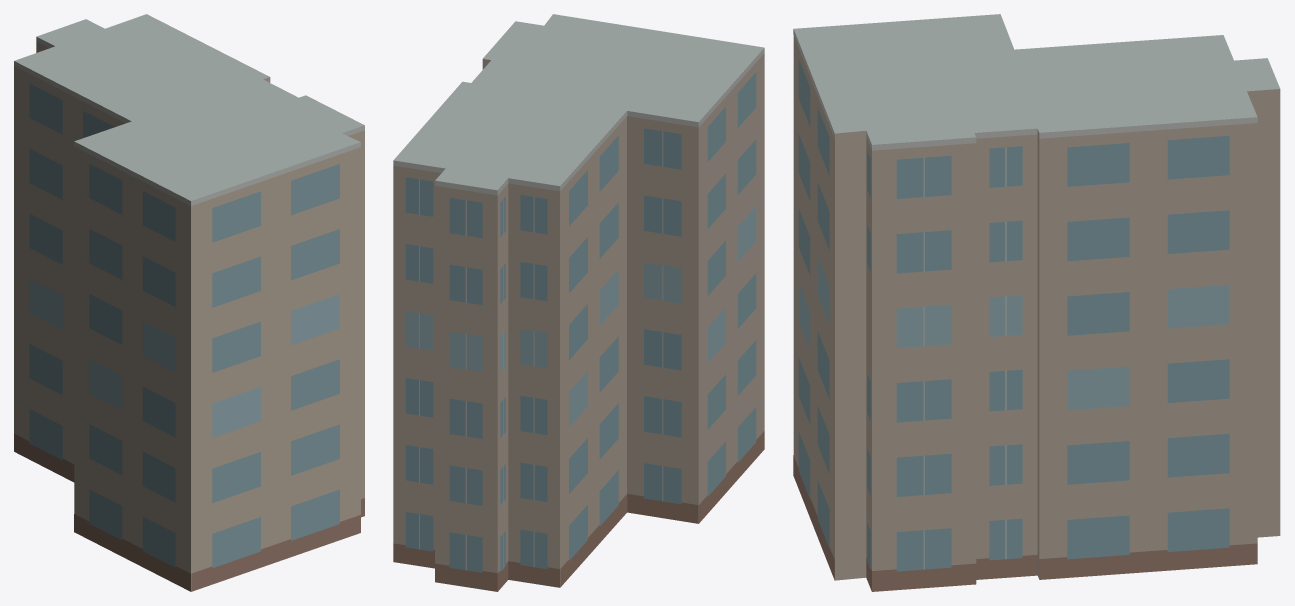
Rendered from survey-upis-32575245.glb.
3 renders of one model, left to right at view 1: azimuth 30°, elevation 25°; view 2: azimuth 150°, elevation 25°; view 3: azimuth 270°, elevation 25°, orthographic. The views are drawn at different scales.
Visible parts, largest first — view 1: survey-upis-32575245.tmp; view 2: survey-upis-32575245.tmp; view 3: survey-upis-32575245.tmp.
Part boxes in pixels (x1,y1,x2,y2): survey-upis-32575245.tmp: (14,14,364,591); survey-upis-32575245.tmp: (393,14,764,591); survey-upis-32575245.tmp: (793,14,1280,591).
Size of the model in its own units: 11.88 by 18.9 by 18.67.
